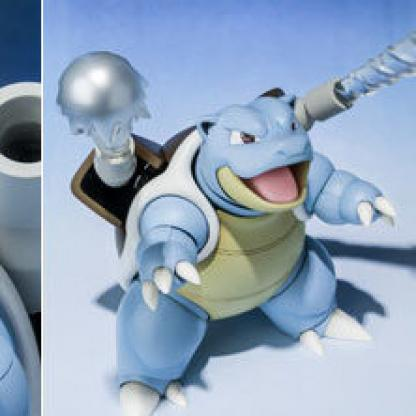Blastoise: (57, 40, 415, 414)
